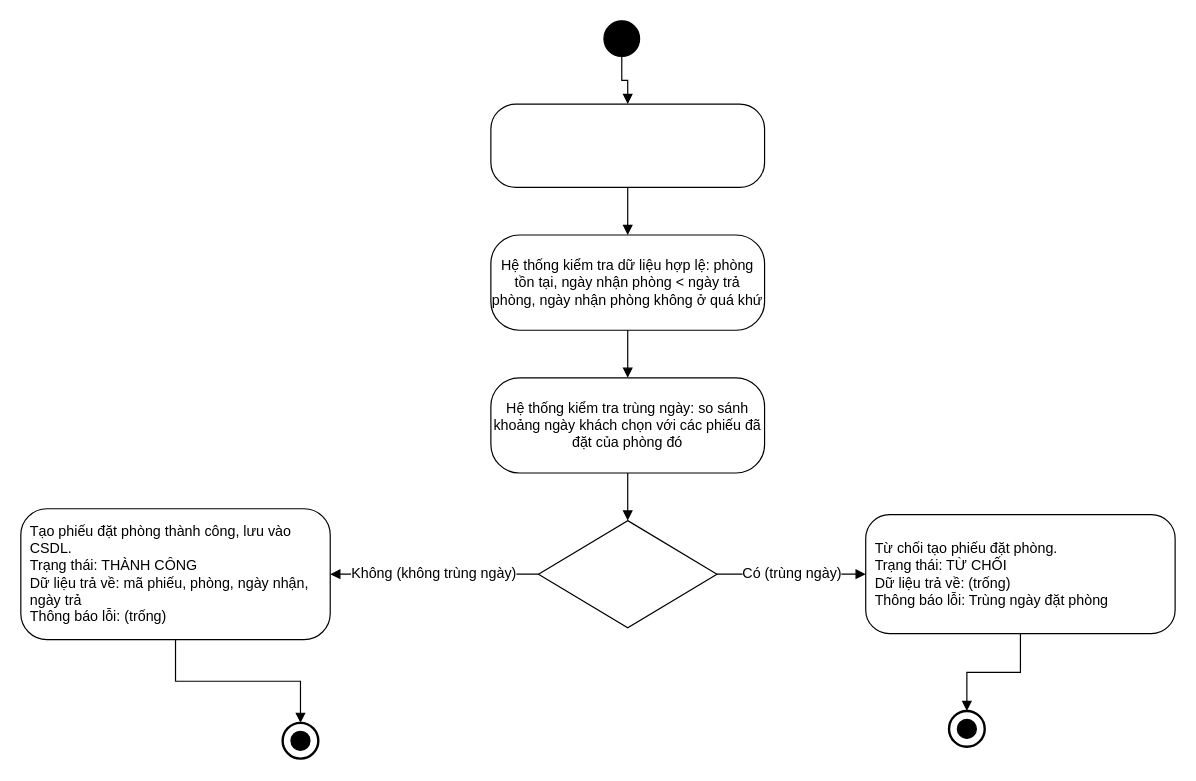
This 1196x781 diagram has some shape labels left out. The shapes that lost their labels are listed below. From the top down, each one's centre as x and y in pixels, then its label:
At pixel 627 145: "Khách hàng chọn phòng và khoảng ngày muốn đặt (ngày nhận phòng, ngày trả phòng)".
At pixel 627 573: "Có ngày nào trong khoảng đã bị trùng không?".
